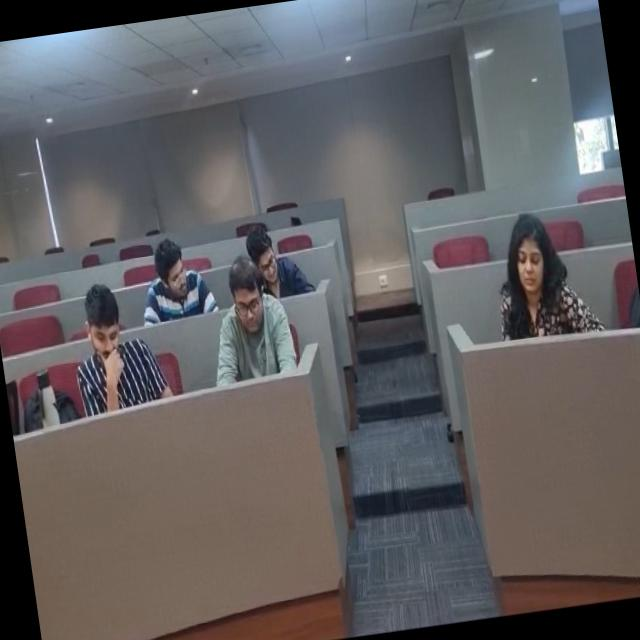cheating: (128, 210, 226, 336)
non-cheating: (476, 196, 598, 339), (64, 284, 159, 406), (202, 268, 301, 382), (224, 194, 304, 298)
